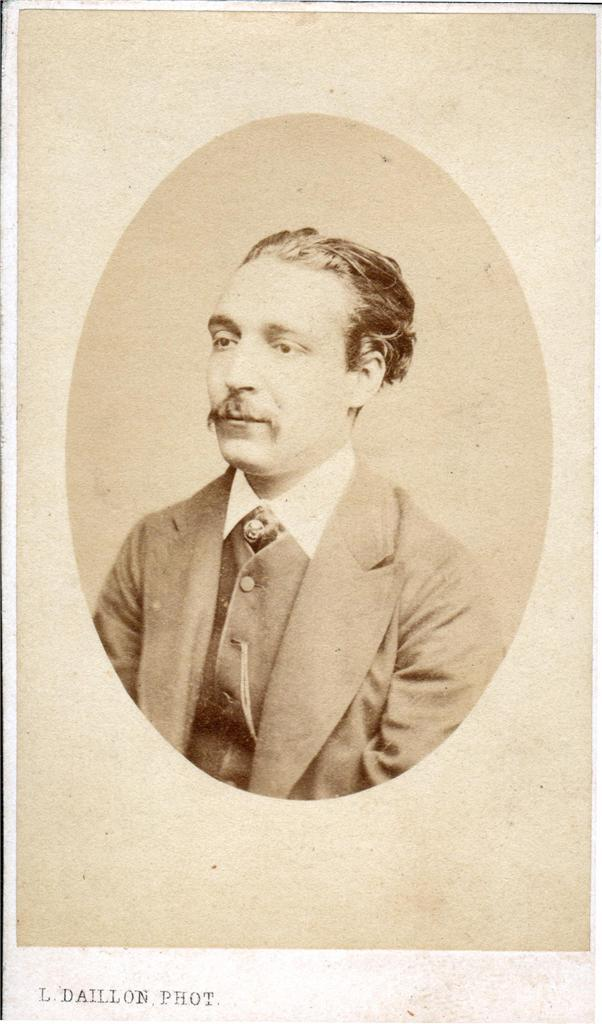Human-face: (199, 266, 346, 478)
